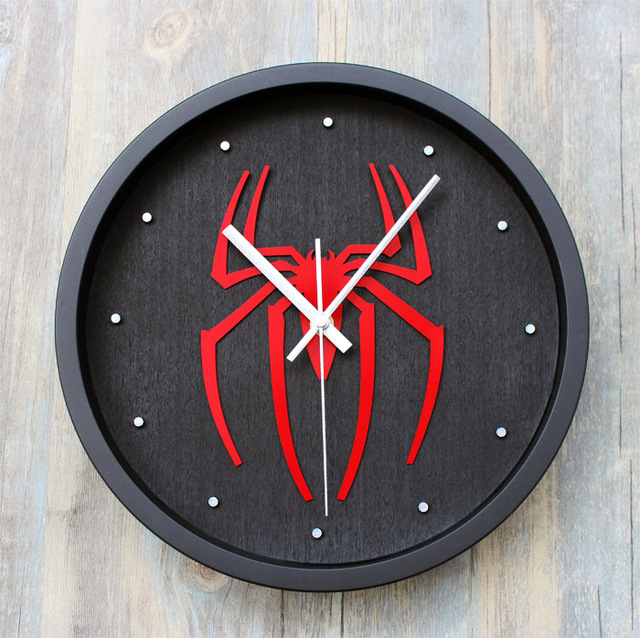clock: (81, 83, 564, 569)
